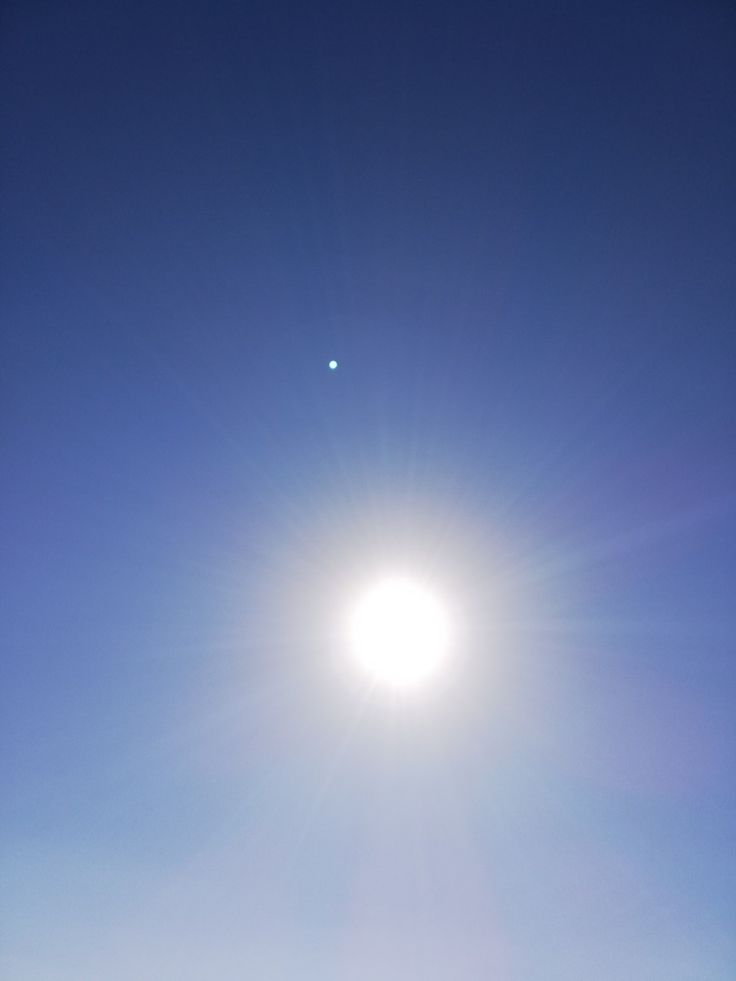sun: (311, 537, 490, 721)
